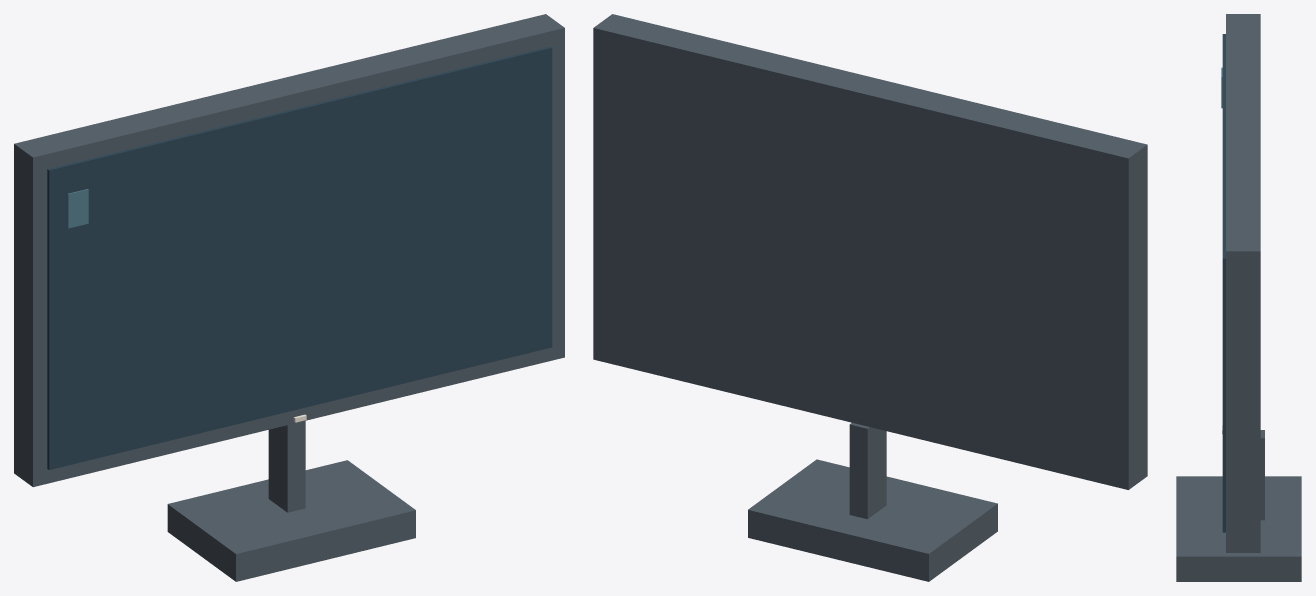
The model's file is Television_55_Stand.fbx.
3 renders of one model, left to right at view 1: azimuth 30°, elevation 25°; view 2: azimuth 150°, elevation 25°; view 3: azimuth 270°, elevation 25°, orthographic. The views are drawn at different scales.
Parts seen in each view (by area): view 1: Television_55_Stand; view 2: Television_55_Stand; view 3: Television_55_Stand.
Part boxes in pixels (<box>): Television_55_Stand: <box>14,14,564,581</box>; Television_55_Stand: <box>593,14,1147,581</box>; Television_55_Stand: <box>1176,14,1301,581</box>.
Size of the model in its own units: 1.3 by 1.05 by 0.29.
